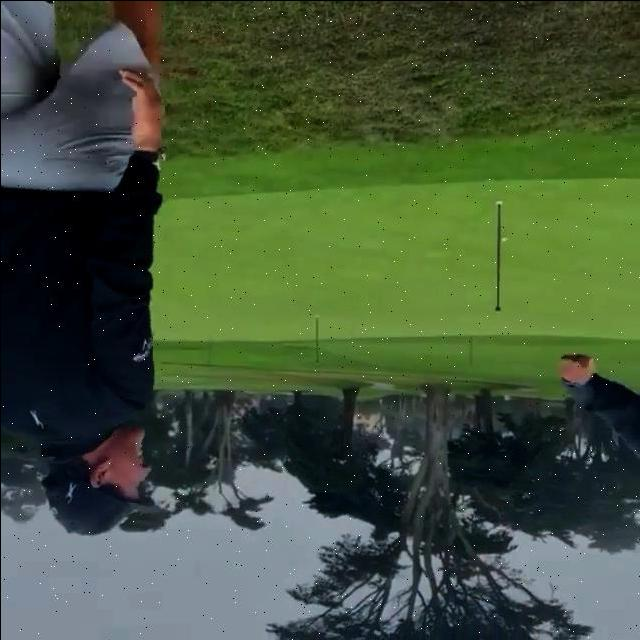golf ball: (501, 235, 507, 241)
